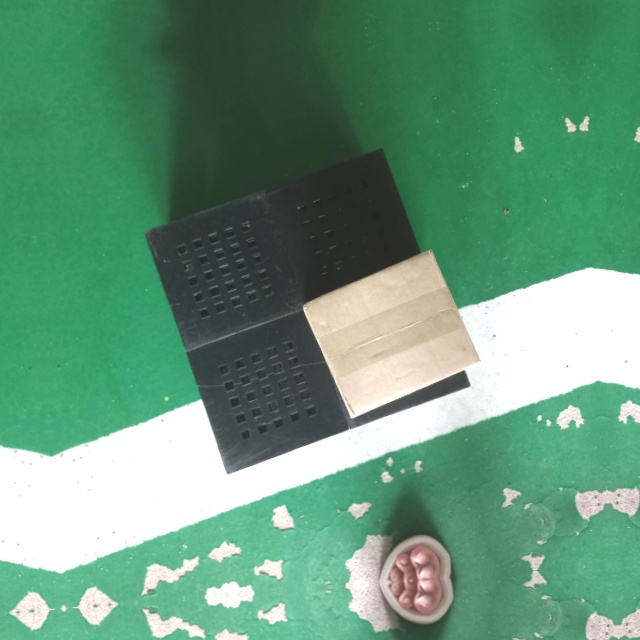box: (298, 245, 485, 421)
pallet: (140, 144, 482, 480)
